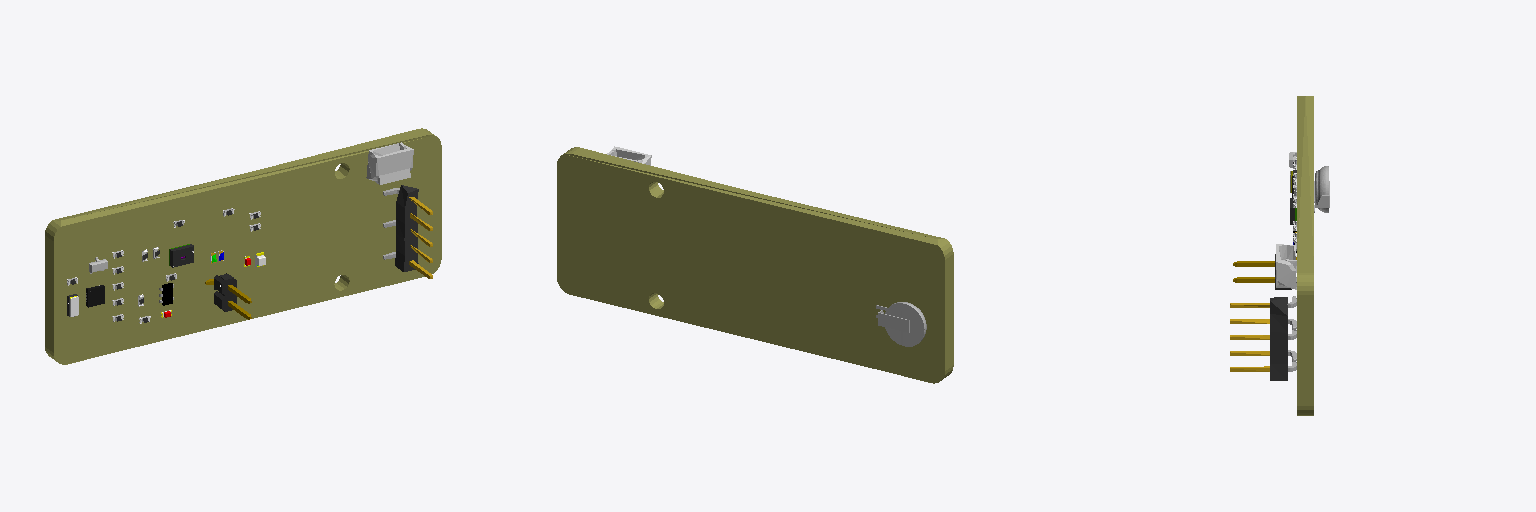
Rendered from OBJ_FeatherAB1805-SC_FINAL_2.obj.
The picture shows the model from 3 angles: view 1: azimuth 30°, elevation 25°; view 2: azimuth 150°, elevation 25°; view 3: azimuth 270°, elevation 25°; orthographic projection.
Bounding box in the file's own units: 255 × 88.8 × 56.75.